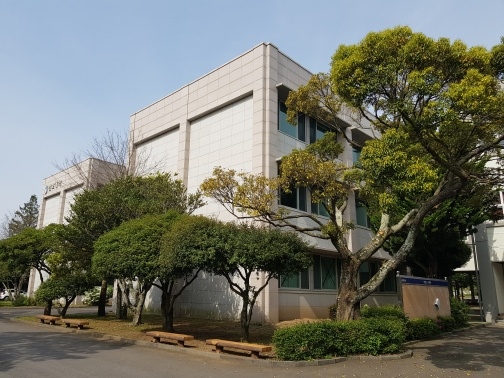College of Nursing: (125, 55, 463, 305), (26, 143, 105, 299)
